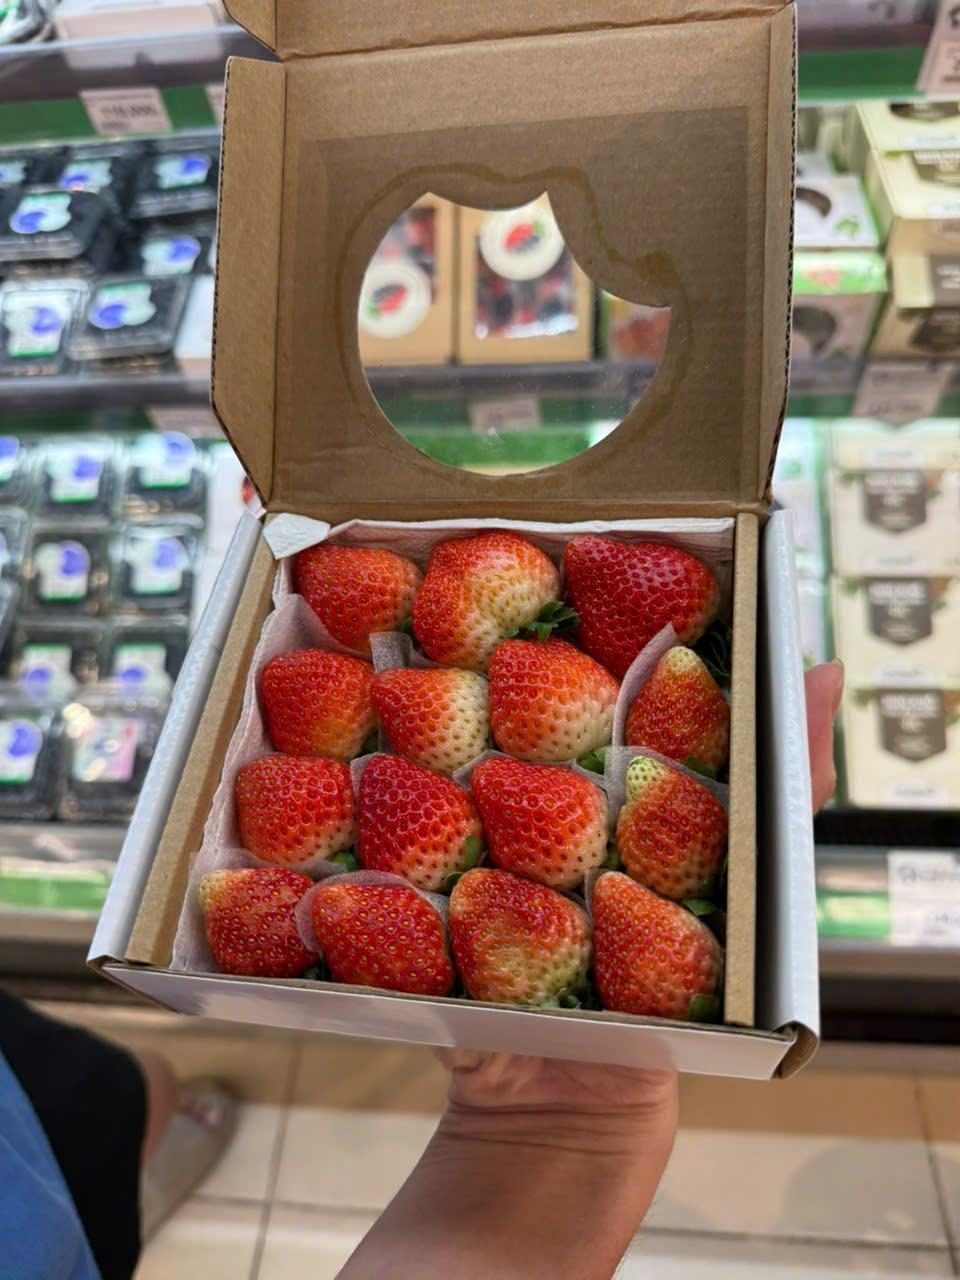strawberry: (585, 858, 728, 1020), (448, 856, 588, 1002), (463, 745, 602, 890), (565, 528, 742, 640), (343, 745, 476, 892), (308, 863, 454, 996), (605, 743, 728, 894), (217, 736, 356, 866), (483, 630, 616, 762), (275, 526, 408, 642), (365, 645, 486, 766), (618, 630, 730, 758), (250, 640, 372, 750), (420, 540, 564, 628), (195, 866, 308, 976)
